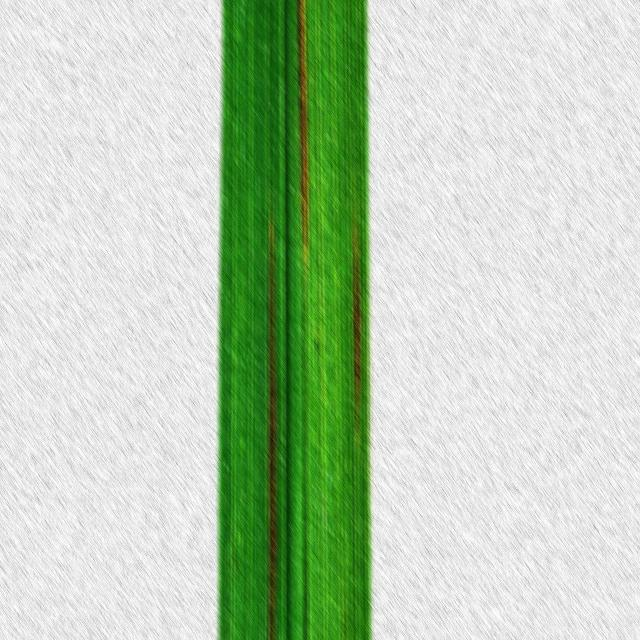NBS: (294, 0, 310, 284), (268, 212, 277, 640), (350, 210, 364, 465)
